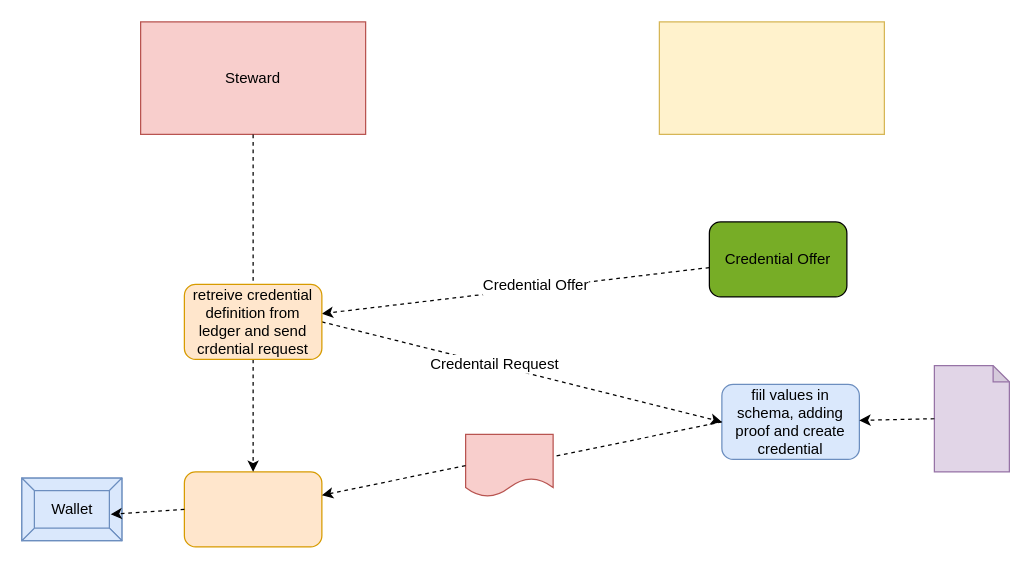
The diagram is 1031 pixels wide and 569 high, and some of its shapes have lost their labels. Each missing label, with the centre of its shape:
Credentials: the point at 508,465
store credentials in wallet for future use: the point at 252,509
Values specific to Alice: the point at 971,418
